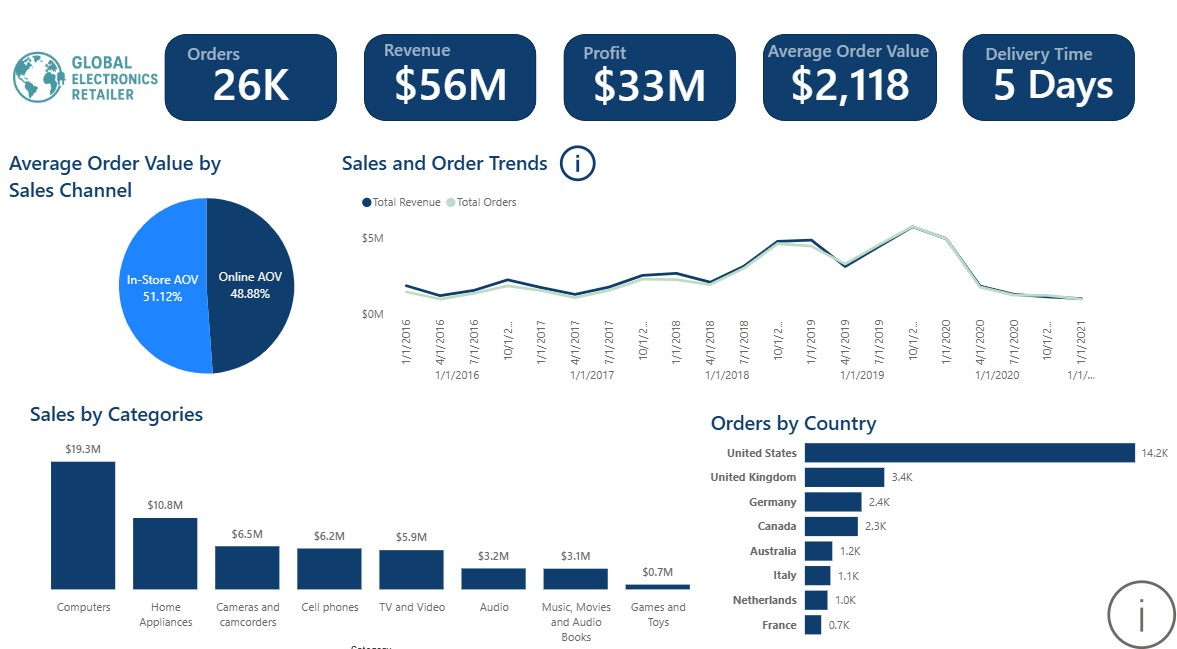

This screenshot's page, from the dashboard's own definition file:
{"tool":"powerbi","page":{"name":"Executive Summary","canvas":[1280,720],"ordinal":1},"visuals":[{"type":"actionButton","box":[600.7,153.8,50.2,61.5],"z":0},{"type":"shape","box":[180.3,45.3,186.2,93.9],"z":1000},{"type":"shape","box":[395.6,45.3,186.2,93.9],"z":2000},{"type":"shape","box":[611,45.3,186.2,93.9],"z":3000},{"type":"shape","box":[826.3,45.3,187.8,93.9],"z":4000},{"type":"shape","box":[1041.7,45.3,186.2,93.9],"z":5000},{"type":"card","fields":{"Values":["Measure.Total Orders"]},"box":[179.7,38.9,186.2,115],"z":6000},{"type":"card","fields":{"Values":["Measure.Gross Profit"]},"box":[610.7,40.5,186.2,115],"z":7000},{"type":"card","fields":{"Values":["Measure.Total Revenue"]},"box":[396,38.9,184.6,115],"z":8000},{"type":"card","fields":{"Values":["Measure.AOV"]},"box":[827,38.9,184.6,115],"z":9000},{"type":"lineChart","fields":{"Y":["Measure.Total Revenue"],"Y2":["Measure.Total Orders"],"Category":["Calendar.Start of Year Hierarchy.Start of Year","Calendar.Start of Year Hierarchy.Start of Quarter","Calendar.Start of Year Hierarchy.Month (Short)","Calendar.Start of Year Hierarchy.Start of Week"]},"box":[386.7,206.7,801.7,228.3],"z":10000},{"type":"pieChart","fields":{"Y":["Measure.Online AOV","Measure.Onsite AOV"]},"box":[6.7,191.7,436.7,251.7],"z":11000},{"type":"columnChart","fields":{"Category":["Products.Category"],"Y":["Measure.Total Revenue"]},"box":[6.5,471.2,782.1,249.4],"z":12000},{"type":"clusteredBarChart","fields":{"Category":["Customers.Country"],"Y":["Measure.Total Orders"]},"box":[762.7,463.1,505.2,246.1],"z":13000},{"type":"card","fields":{"Values":["Measure.Average Delivery Days"]},"box":[994.2,48.6,184.6,95.5],"z":14000},{"type":"actionButton","box":[937.5,442,56.7,40.5],"z":15000},{"type":"textbox","box":[199.2,48.6,93.9,45.3],"z":16000},{"type":"textbox","box":[411.3,43.7,92.3,45.3],"z":17000},{"type":"textbox","box":[626.6,47,77.7,45.3],"z":18000},{"type":"textbox","box":[825.8,45.3,199.2,42.1],"z":19000},{"type":"textbox","box":[1060.6,48.6,207.3,38.9],"z":20000},{"type":"image","box":[0,0,187.8,187.8],"z":21000},{"type":"textbox","box":[365.9,163.5,234.8,43.7],"z":22000},{"type":"textbox","box":[764.3,443.7,310.9,38.9],"z":23000},{"type":"textbox","box":[29.1,434,244.5,61.5],"z":24000},{"type":"textbox","box":[6.7,163.3,293.3,68.3],"z":25000},{"type":"textbox","box":[1105.9,63.1,161.9,72.9],"z":26000},{"type":"actionButton","box":[1188.5,623.4,92.3,97.2],"z":29000}]}

Visuals, with their boxes in screenshot pixels (x1, y1, x2, y2), scaled from the page's 1280x720 canvas onto the 1177x649 screenshot:
actionButton: {"x1": 552, "y1": 139, "x2": 599, "y2": 194}
shape: {"x1": 166, "y1": 41, "x2": 337, "y2": 125}
shape: {"x1": 364, "y1": 41, "x2": 535, "y2": 125}
shape: {"x1": 562, "y1": 41, "x2": 733, "y2": 125}
shape: {"x1": 760, "y1": 41, "x2": 932, "y2": 125}
shape: {"x1": 958, "y1": 41, "x2": 1129, "y2": 125}
card - Measure.Total Orders: {"x1": 165, "y1": 35, "x2": 336, "y2": 139}
card - Measure.Gross Profit: {"x1": 562, "y1": 37, "x2": 733, "y2": 140}
card - Measure.Total Revenue: {"x1": 364, "y1": 35, "x2": 534, "y2": 139}
card - Measure.AOV: {"x1": 760, "y1": 35, "x2": 930, "y2": 139}
lineChart - Measure.Total Revenue x Measure.Total Orders: {"x1": 356, "y1": 186, "x2": 1093, "y2": 392}
pieChart - Measure.Online AOV x Measure.Onsite AOV: {"x1": 6, "y1": 173, "x2": 408, "y2": 400}
columnChart - Products.Category x Measure.Total Revenue: {"x1": 6, "y1": 425, "x2": 725, "y2": 648}
clusteredBarChart - Customers.Country x Measure.Total Orders: {"x1": 701, "y1": 417, "x2": 1166, "y2": 639}
card - Measure.Average Delivery Days: {"x1": 914, "y1": 44, "x2": 1084, "y2": 130}
actionButton: {"x1": 862, "y1": 398, "x2": 914, "y2": 435}
textbox: {"x1": 183, "y1": 44, "x2": 270, "y2": 85}
textbox: {"x1": 378, "y1": 39, "x2": 463, "y2": 80}
textbox: {"x1": 576, "y1": 42, "x2": 648, "y2": 83}
textbox: {"x1": 759, "y1": 41, "x2": 943, "y2": 79}
textbox: {"x1": 975, "y1": 44, "x2": 1166, "y2": 79}
image: {"x1": 0, "y1": 0, "x2": 173, "y2": 169}
textbox: {"x1": 336, "y1": 147, "x2": 552, "y2": 187}
textbox: {"x1": 703, "y1": 400, "x2": 989, "y2": 435}
textbox: {"x1": 27, "y1": 391, "x2": 252, "y2": 447}
textbox: {"x1": 6, "y1": 147, "x2": 276, "y2": 209}
textbox: {"x1": 1017, "y1": 57, "x2": 1166, "y2": 123}
actionButton: {"x1": 1093, "y1": 562, "x2": 1176, "y2": 648}
